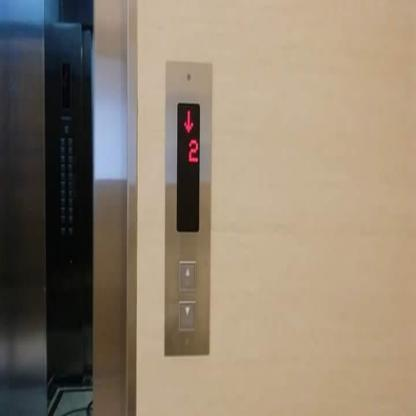down: (178, 299, 196, 330)
led: (174, 99, 200, 233), (60, 63, 70, 107)
up: (178, 260, 196, 290)
